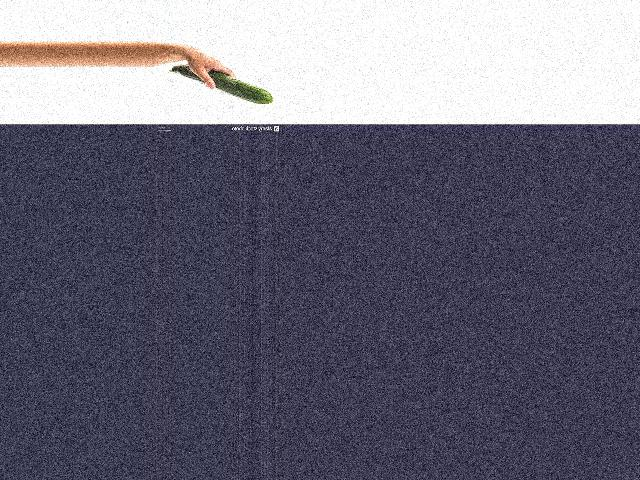cucumber: (168, 64, 273, 104)
